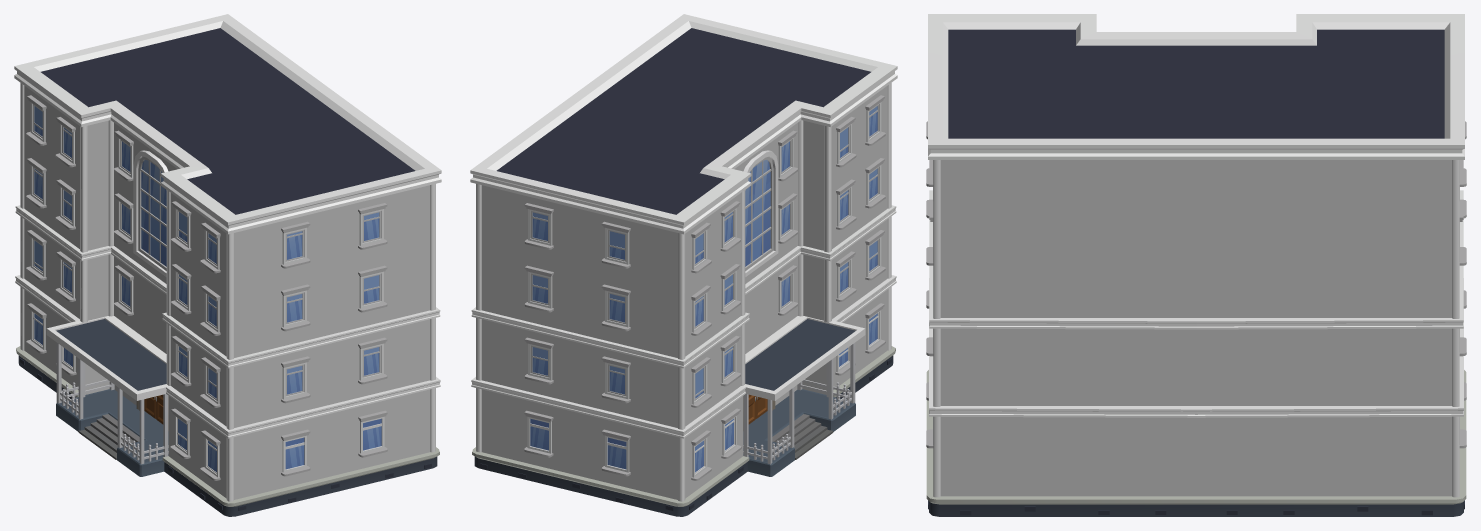
The model's file is Building_5_3_B.fbx.
3 renders of one model, left to right at view 1: azimuth 30°, elevation 25°; view 2: azimuth 150°, elevation 25°; view 3: azimuth 270°, elevation 25°, orthographic. The views are drawn at different scales.
Visible parts, largest first — view 1: Building_5_3_B; view 2: Building_5_3_B; view 3: Building_5_3_B.
Boxes of the visible parts, x1,y1,x2,y2 form: Building_5_3_B: [14, 14, 441, 516]; Building_5_3_B: [470, 14, 897, 516]; Building_5_3_B: [926, 14, 1466, 516].
Bounding box in the file's own units: 1251 × 1450 × 1908.
